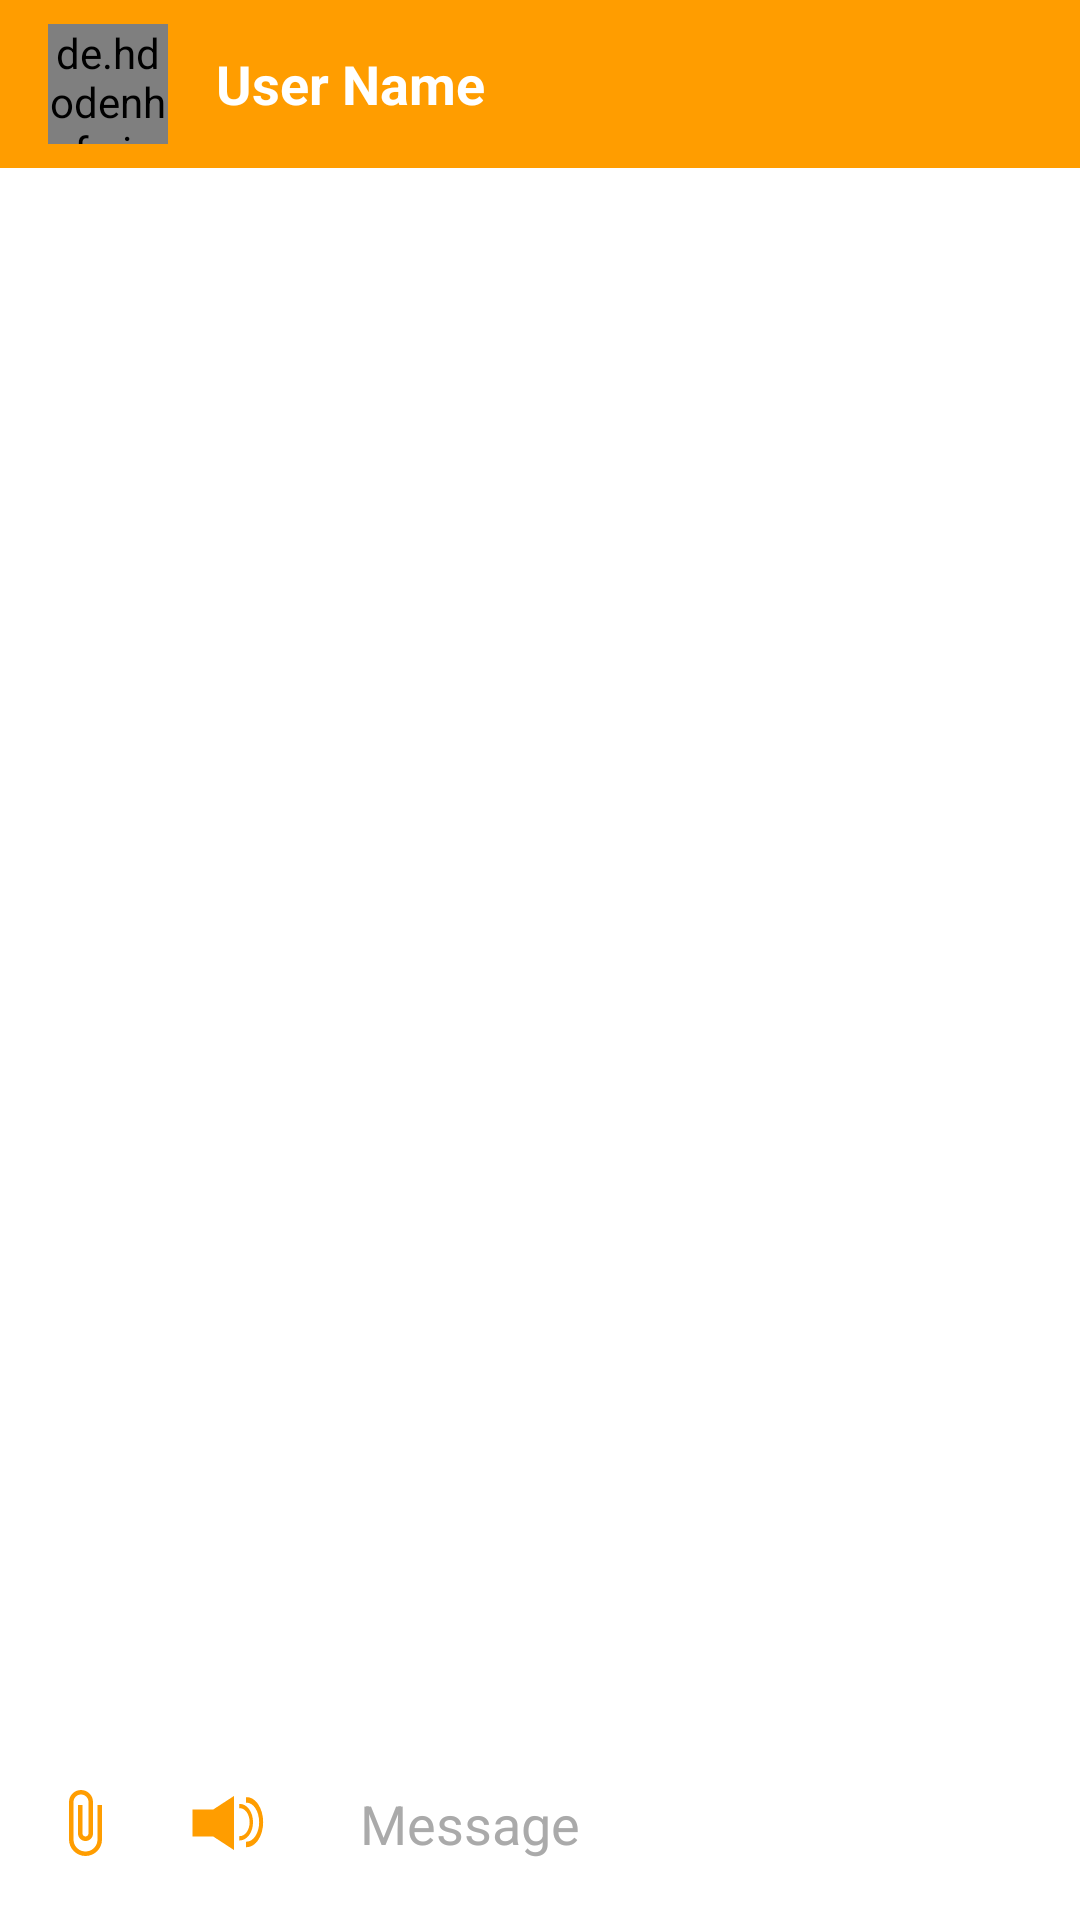

Where icons sit on this 1080px×1920px app screen, as [left=x1, top=y1, right=x2, bottom=y2]:
attach file: [left=69, top=1790, right=102, bottom=1856]
soundboards: [left=192, top=1796, right=264, bottom=1850]
